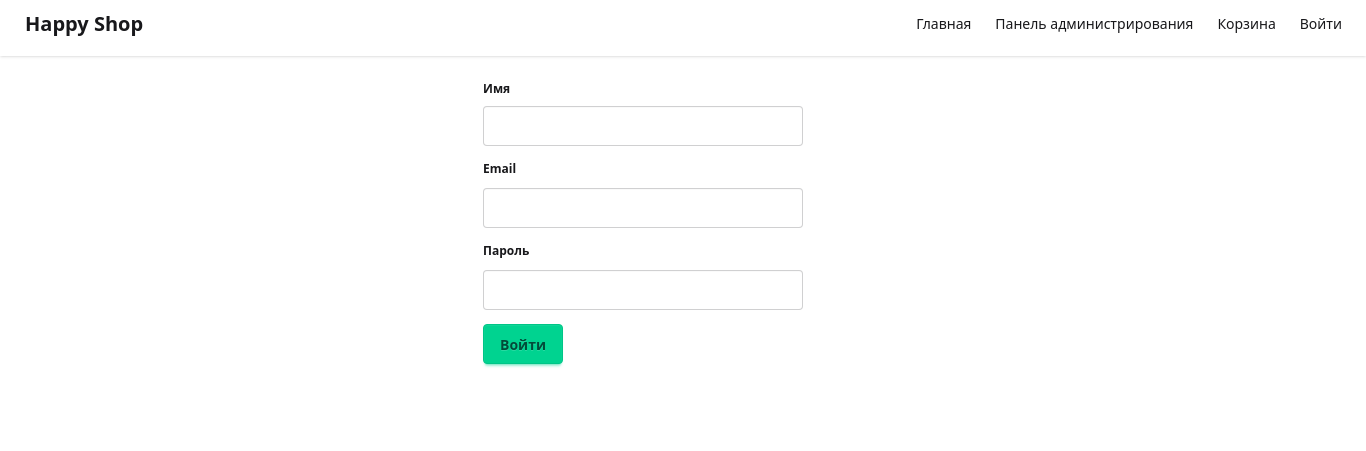
Login testing › failed login
In the 2nd field: [643, 208] box [483, 188, 803, 228], type "test@example.com"
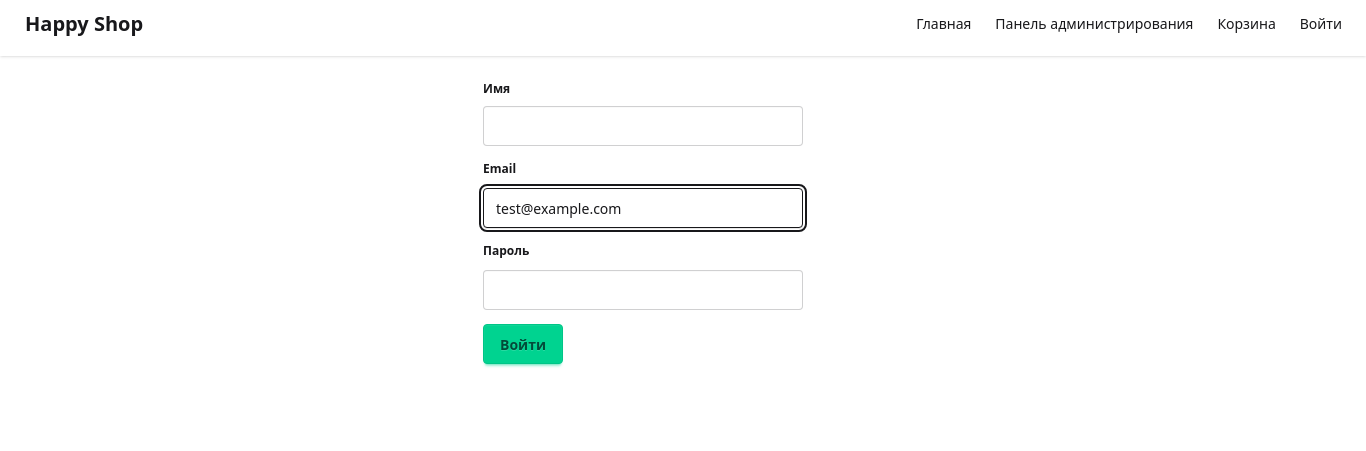
In the password field: [643, 290] box [483, 270, 803, 310], type "password123"
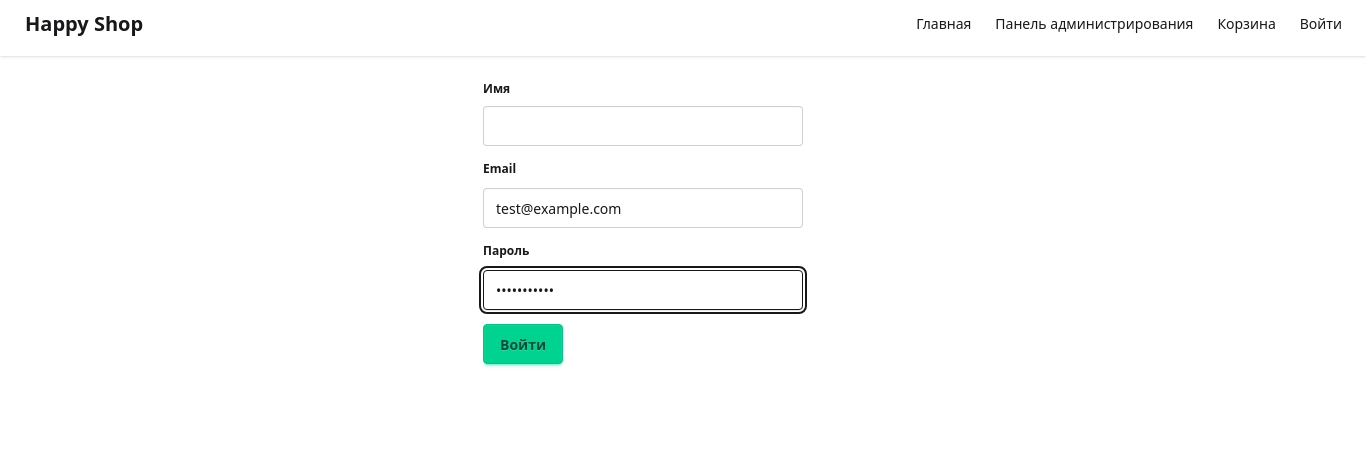
Click the button "Войти": [523, 344] box [483, 324, 563, 364]
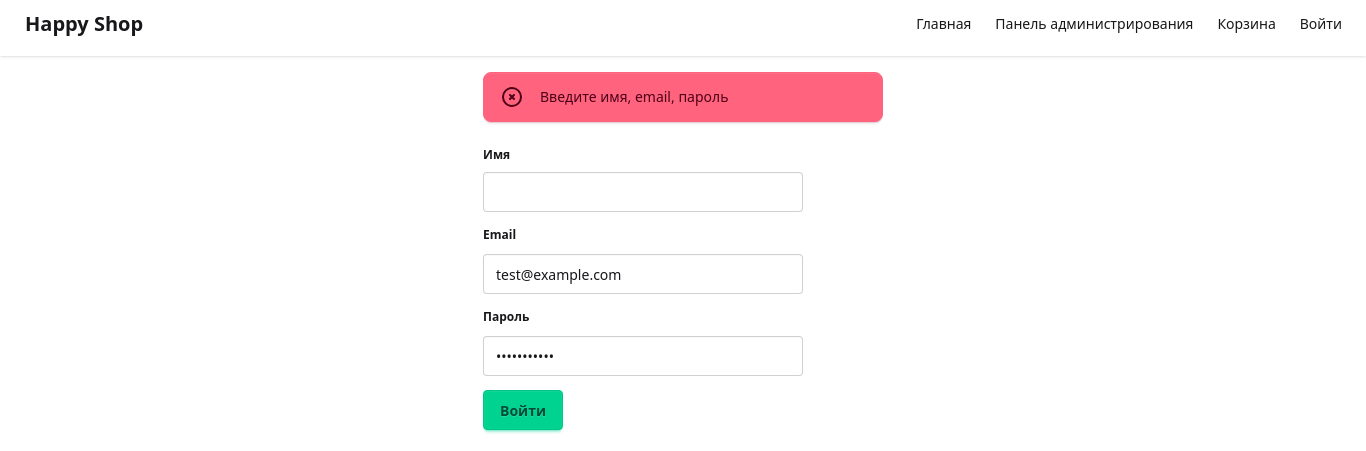
expect the text "Введите имя, email, пароль" is shown: met, box [540, 87, 728, 107]
